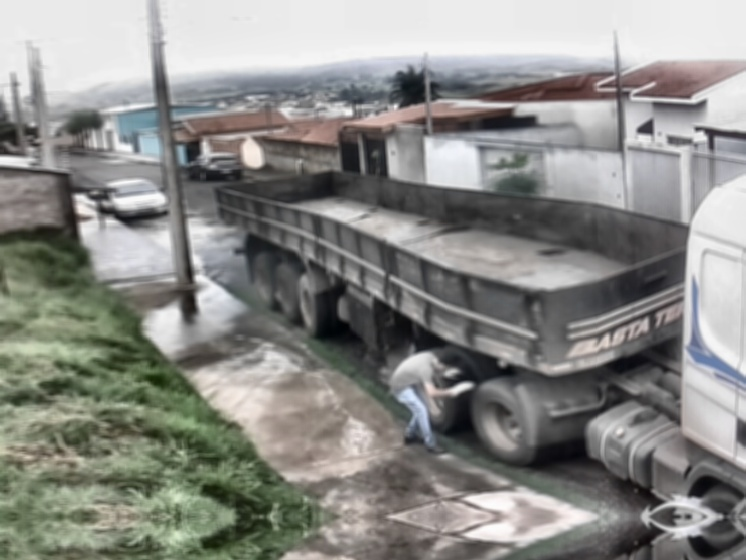person: (389, 349, 475, 456)
